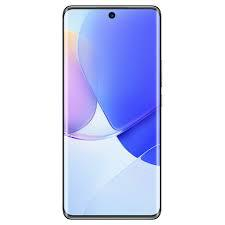Smartphone: (63, 7, 157, 218)
